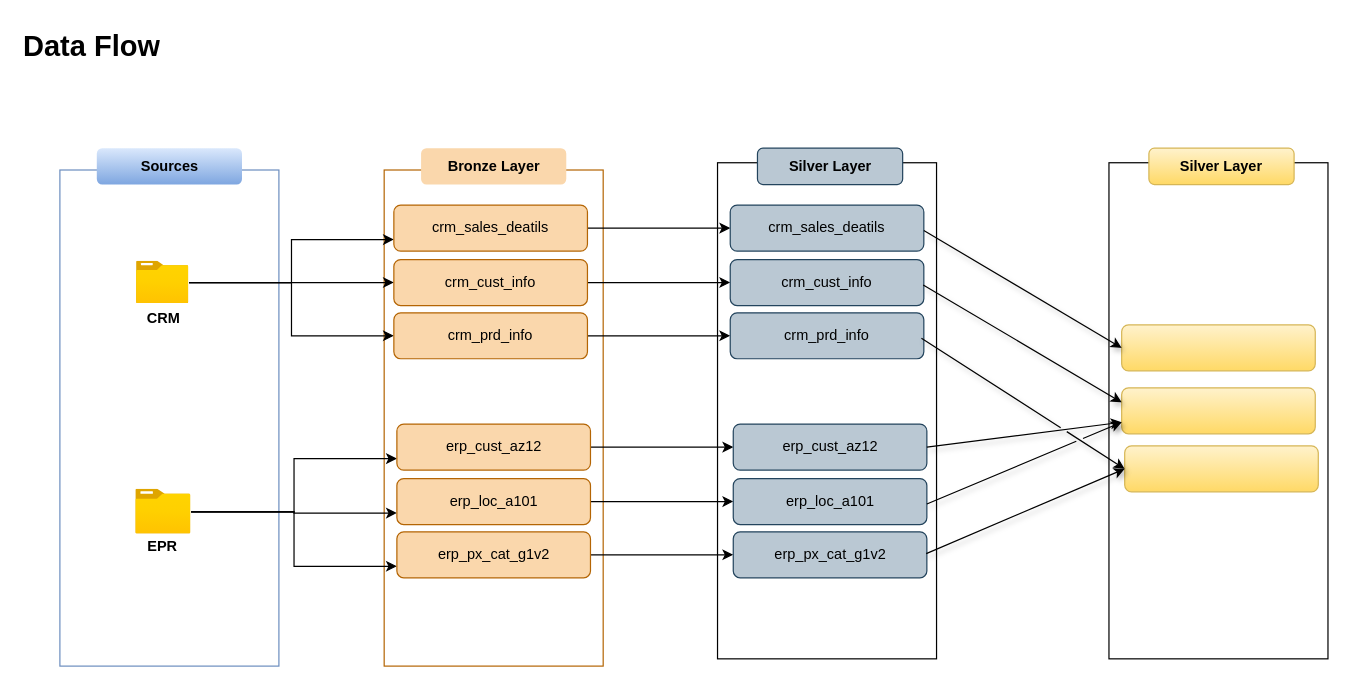
Image size: 1349x687. Some labels were removed from this diagram. The shapes that lost their labels are listed below. From the top down, each one's centre as x and y in pixels, then its label:
At [1217,347]: "fact_sales".
At [1217,410]: "dim_customers".
At [1220,468]: "dim_products".
